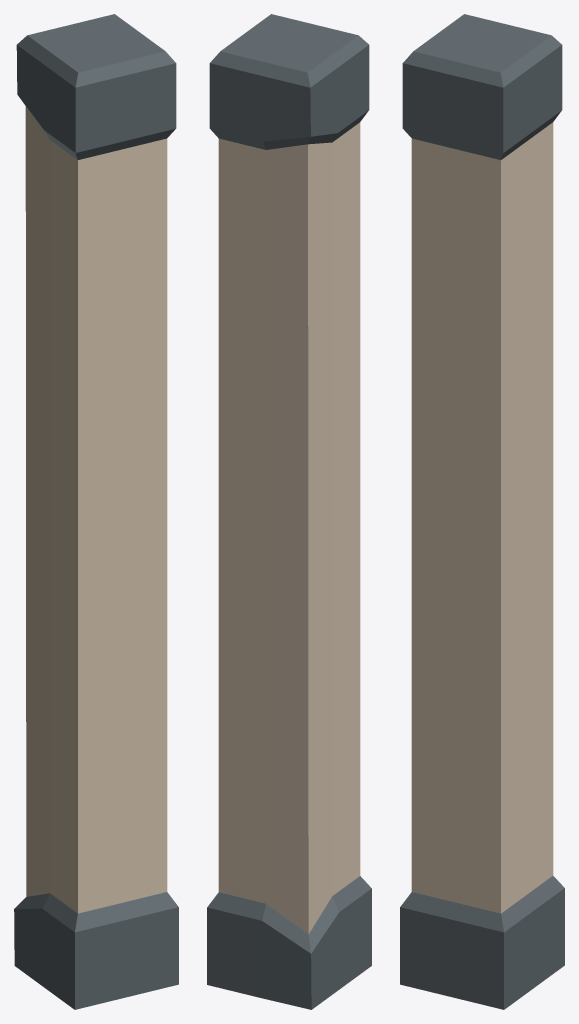
The model's file is g_o_MedicWallCorner270.fbx.
3 views of the same model, side by side, from view 1: azimuth 30°, elevation 25°; view 2: azimuth 150°, elevation 25°; view 3: azimuth 330°, elevation 25° (orthographic).
Parts seen in each view (by area): view 1: g_o_MedicWallCorner270; view 2: g_o_MedicWallCorner270; view 3: g_o_MedicWallCorner270.
Part boxes in pixels (left/top/right/bottom): g_o_MedicWallCorner270: left=14, top=14, right=178, bottom=1009; g_o_MedicWallCorner270: left=207, top=14, right=371, bottom=1009; g_o_MedicWallCorner270: left=400, top=14, right=564, bottom=1009.
Size of the model in its own units: 0.2198 by 1.88 by 0.2223.
